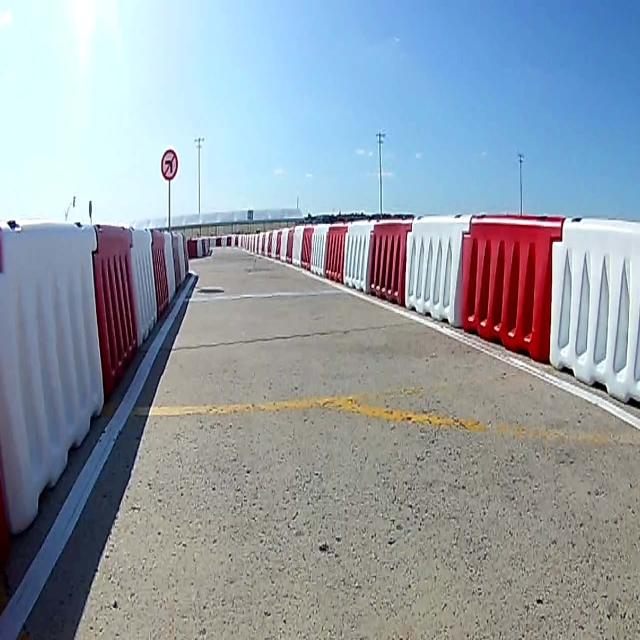soladonulmez: (160, 146, 178, 182)
